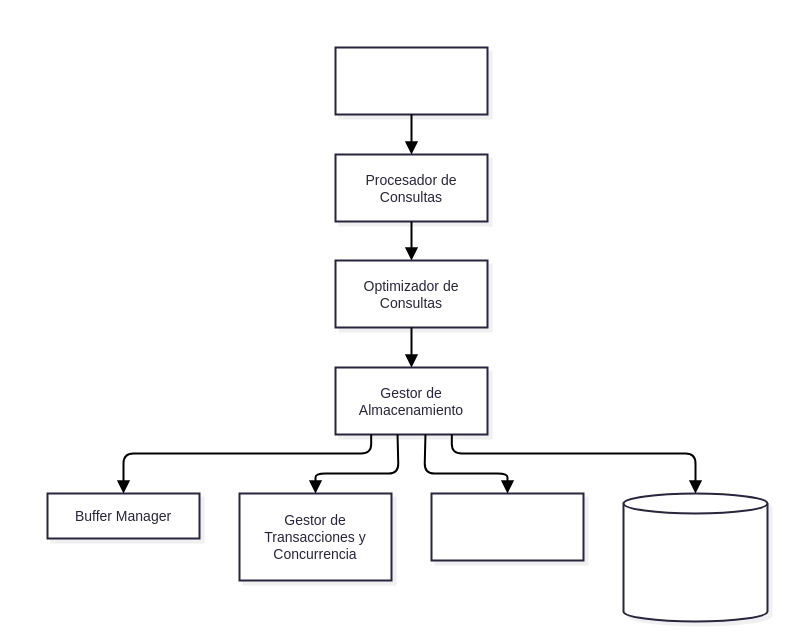
This 789x643 diagram has some shape labels left out. Each missing label, with the centre of its shape:
"Archivos de Datos e Índices en Disco" belongs at (x=697, y=559).
"Gestor de Integridad" belongs at (x=509, y=528).
"Usuarios y Aplicaciones" belongs at (x=413, y=82).
